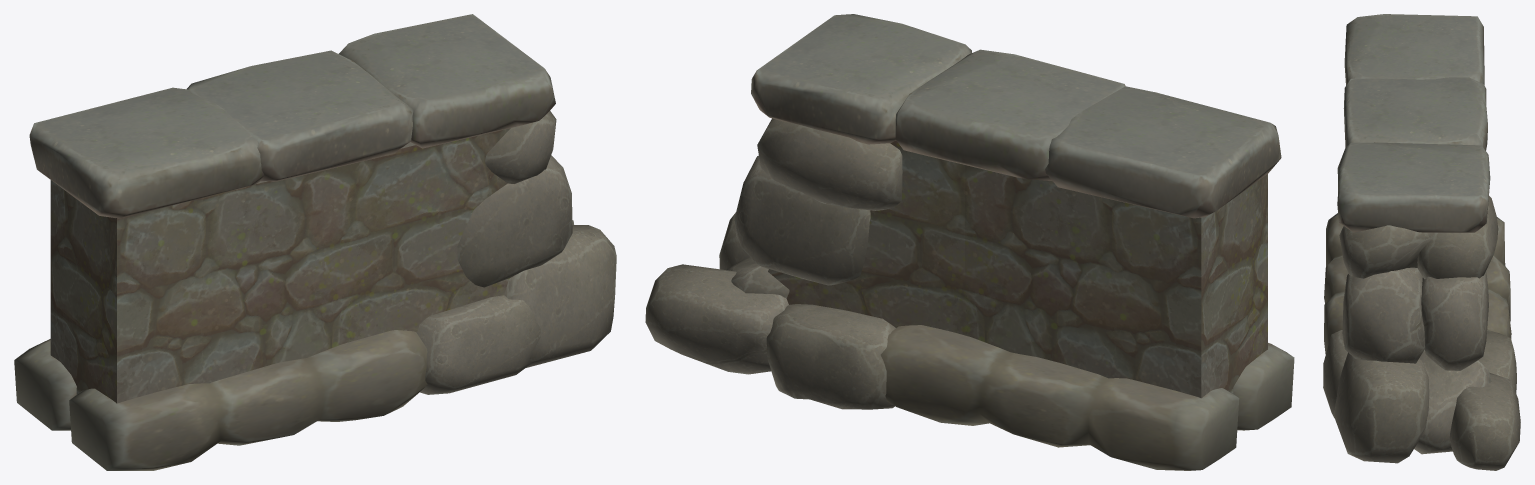
File: SM_FW01_Ruins_Int_Trim_C_2m_Brkn_02.fbx
3 renders of one model, left to right at view 1: azimuth 30°, elevation 25°; view 2: azimuth 150°, elevation 25°; view 3: azimuth 270°, elevation 25°, orthographic. The views are drawn at different scales.
Visible parts, largest first — view 1: SM_FW01_Ruins_Int_Trim_C_2m_Brkn_02_LOD0, SM_FW01_Ruins_Int_Trim_C_2m_Brkn_02; view 2: SM_FW01_Ruins_Int_Trim_C_2m_Brkn_02_LOD0, SM_FW01_Ruins_Int_Trim_C_2m_Brkn_02; view 3: SM_FW01_Ruins_Int_Trim_C_2m_Brkn_02_LOD0.
Boxes of the visible parts, x1,y1,x2,y2 form: SM_FW01_Ruins_Int_Trim_C_2m_Brkn_02_LOD0: [14, 14, 616, 470]; SM_FW01_Ruins_Int_Trim_C_2m_Brkn_02: [50, 128, 510, 403]; SM_FW01_Ruins_Int_Trim_C_2m_Brkn_02_LOD0: [645, 14, 1294, 470]; SM_FW01_Ruins_Int_Trim_C_2m_Brkn_02: [768, 140, 1267, 398]; SM_FW01_Ruins_Int_Trim_C_2m_Brkn_02_LOD0: [1323, 14, 1520, 470].
Size of what is drawn, in the model's own units: 2.39 by 1.28 by 0.8896.
